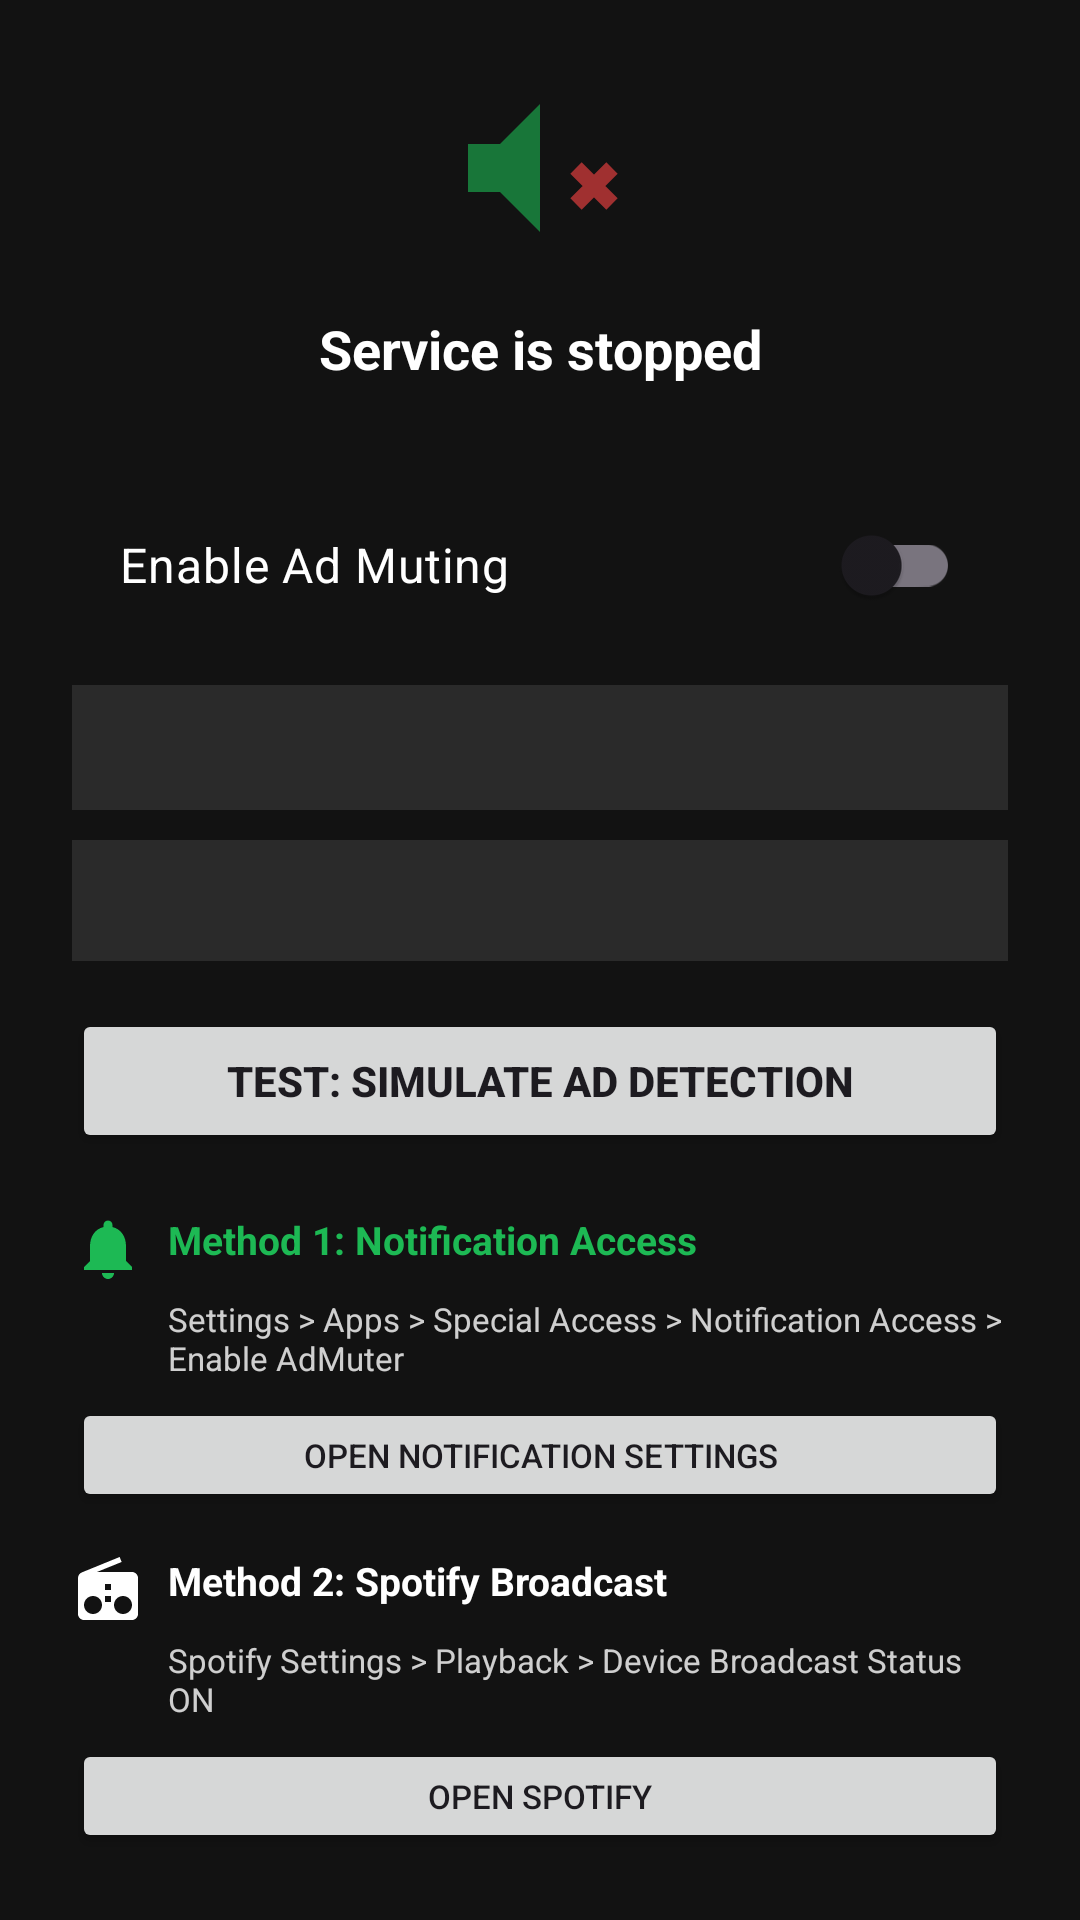

Screen size 1080px x 1920px. Icon name, then its box in pixels as (x1, y1, x2, y2):
mute: (468, 104, 618, 232)
